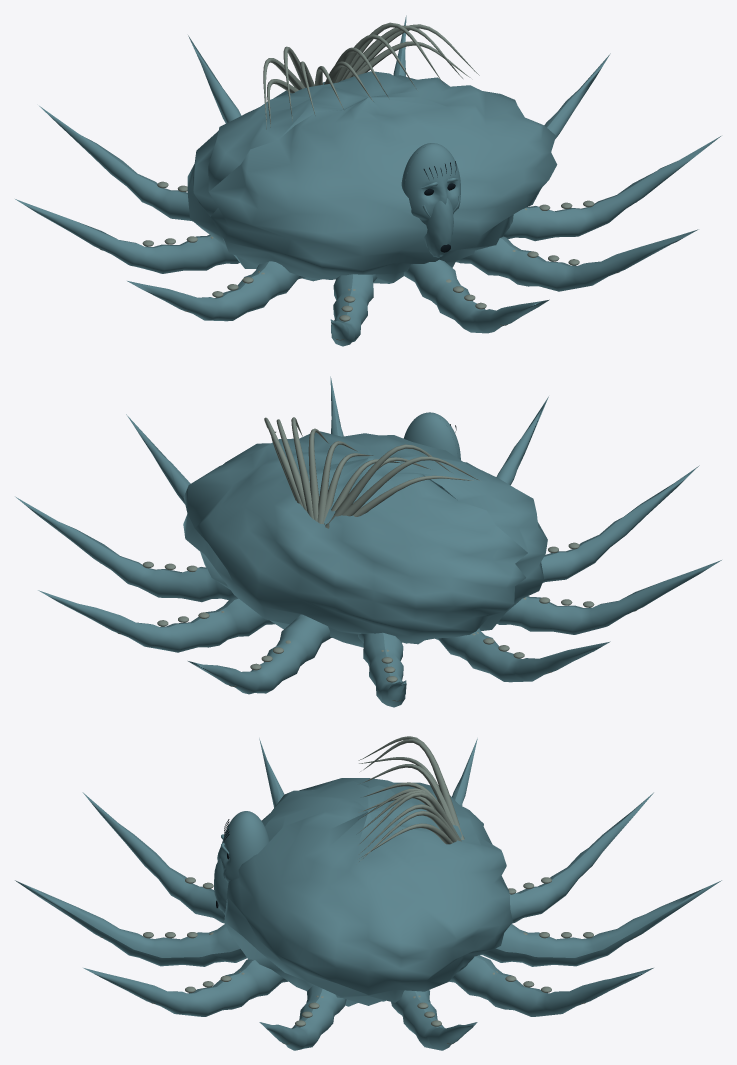
Rendered from 18-the-blind-sanctuary.glb.
3 renders of one model, top to bottom at view 1: azimuth 30°, elevation 25°; view 2: azimuth 150°, elevation 25°; view 3: azimuth 270°, elevation 25°, orthographic. The views are drawn at different scales.
Visible parts, largest first — view 1: sculpt (×12); view 2: sculpt (×12); view 3: sculpt (×11).
Part boxes in pixels (<box>): sculpt (×12): <box>15,22,720,346</box>; sculpt (×12): <box>15,396,721,707</box>; sculpt (×11): <box>15,736,721,1050</box>.
Bounding box in the file's own units: 5.51 × 1.86 × 5.8.
